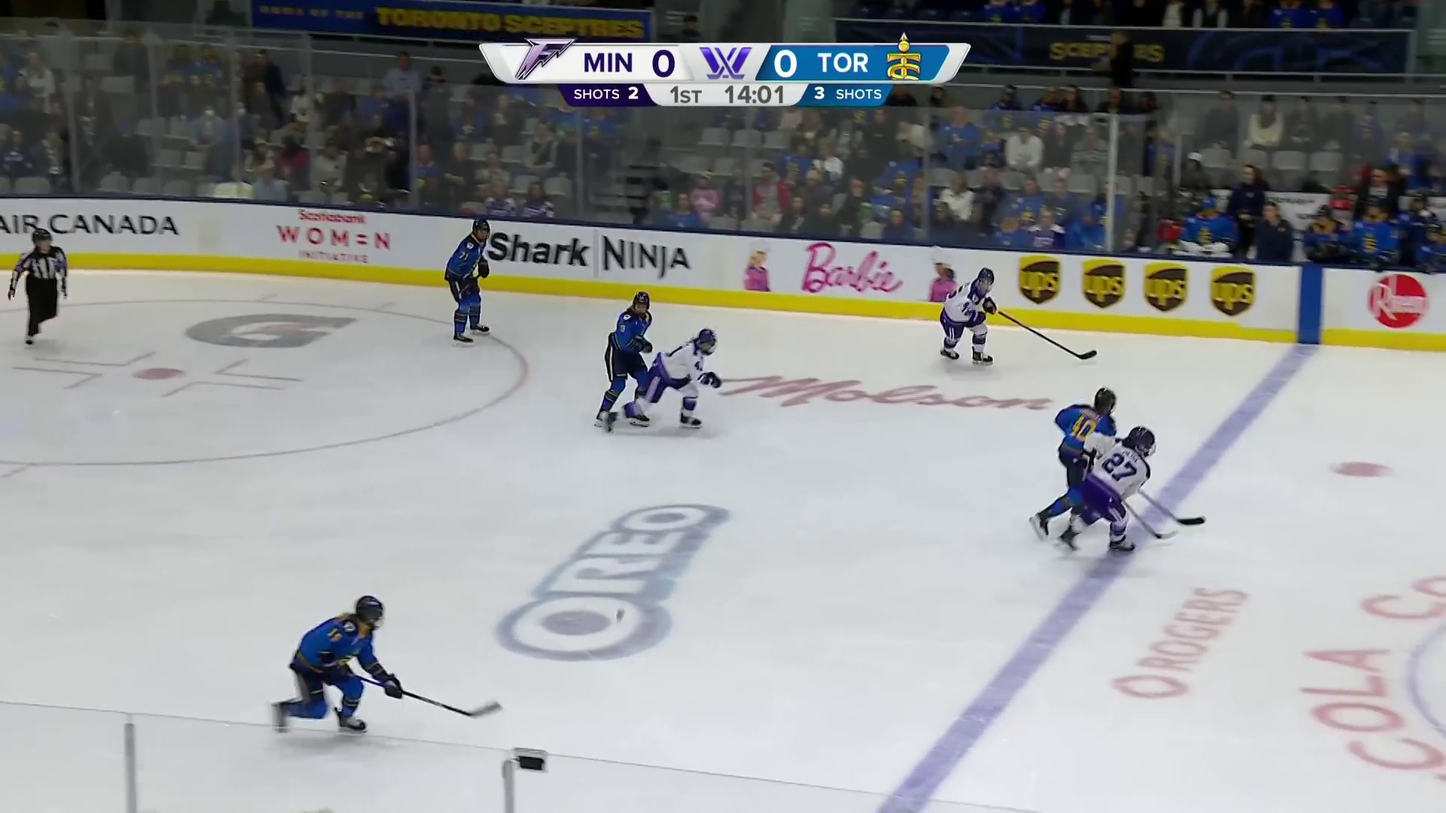player: (273, 595, 407, 737), (1029, 386, 1117, 535), (1058, 425, 1158, 555), (606, 324, 722, 428), (593, 291, 652, 422), (444, 218, 493, 346), (939, 266, 1001, 364)
referee: (8, 228, 65, 342)
